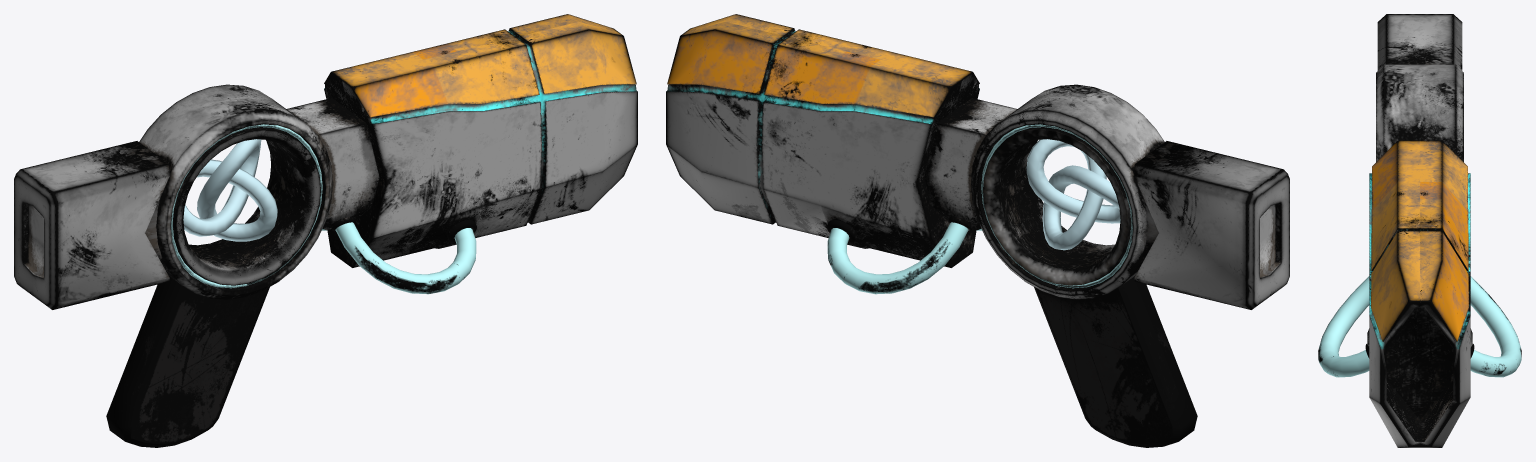
File: Pistol.fbx
3 views of the same model, side by side, from view 1: azimuth 30°, elevation 25°; view 2: azimuth 150°, elevation 25°; view 3: azimuth 270°, elevation 25° (orthographic). The views are drawn at different scales.
Visible parts, largest first — view 1: Base_Pistol, Powersource; view 2: Base_Pistol, Powersource; view 3: Base_Pistol.
Boxes of the visible parts, x1,y1,x2,y2 form: Base_Pistol: (14,14,637,447); Powersource: (183,139,277,241); Base_Pistol: (666,14,1289,447); Powersource: (1026,139,1120,250); Base_Pistol: (1318,14,1521,447).
Size of the model in its own units: 680 by 360 by 197.
